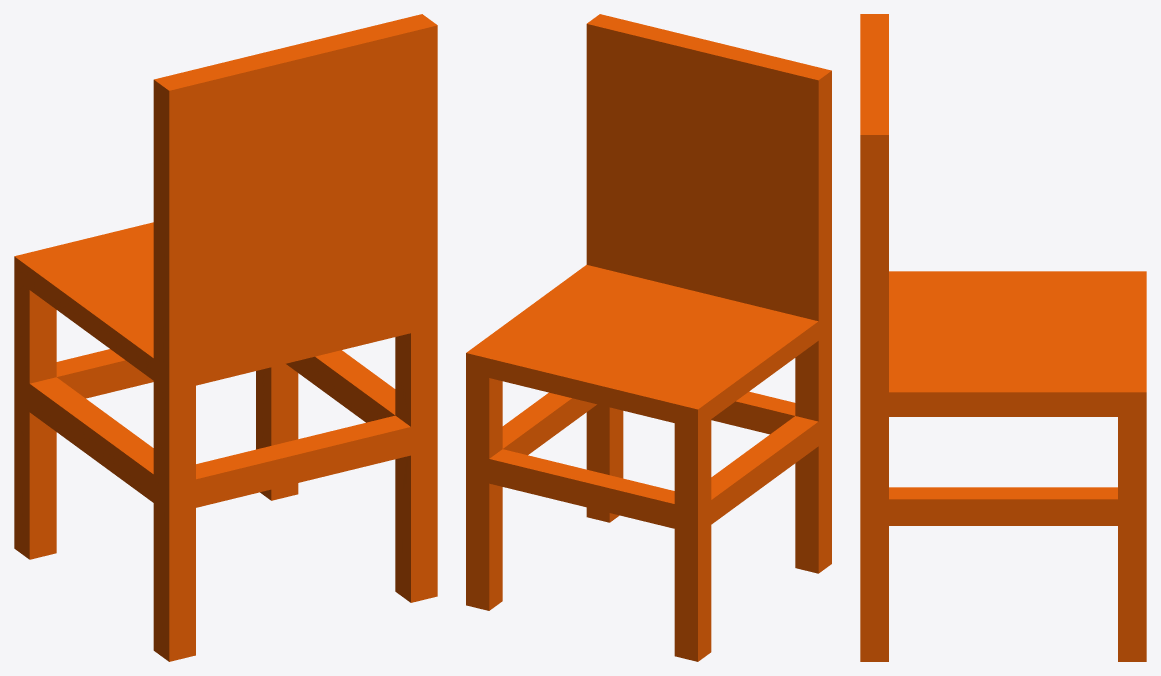
File: Cadeiras.fbx
3 views of the same model, side by side, from view 1: azimuth 30°, elevation 25°; view 2: azimuth 150°, elevation 25°; view 3: azimuth 270°, elevation 25° (orthographic). The views are drawn at different scales.
Visible parts, largest first — view 1: Cube.005; view 2: Cube.005; view 3: Cube.005.
Part boxes in pixels (box(x1,y1,x2,y2)): Cube.005: box(14, 14, 437, 661); Cube.005: box(466, 14, 831, 661); Cube.005: box(860, 14, 1146, 661).
Size of the model in its own units: 120 by 244 by 120.
